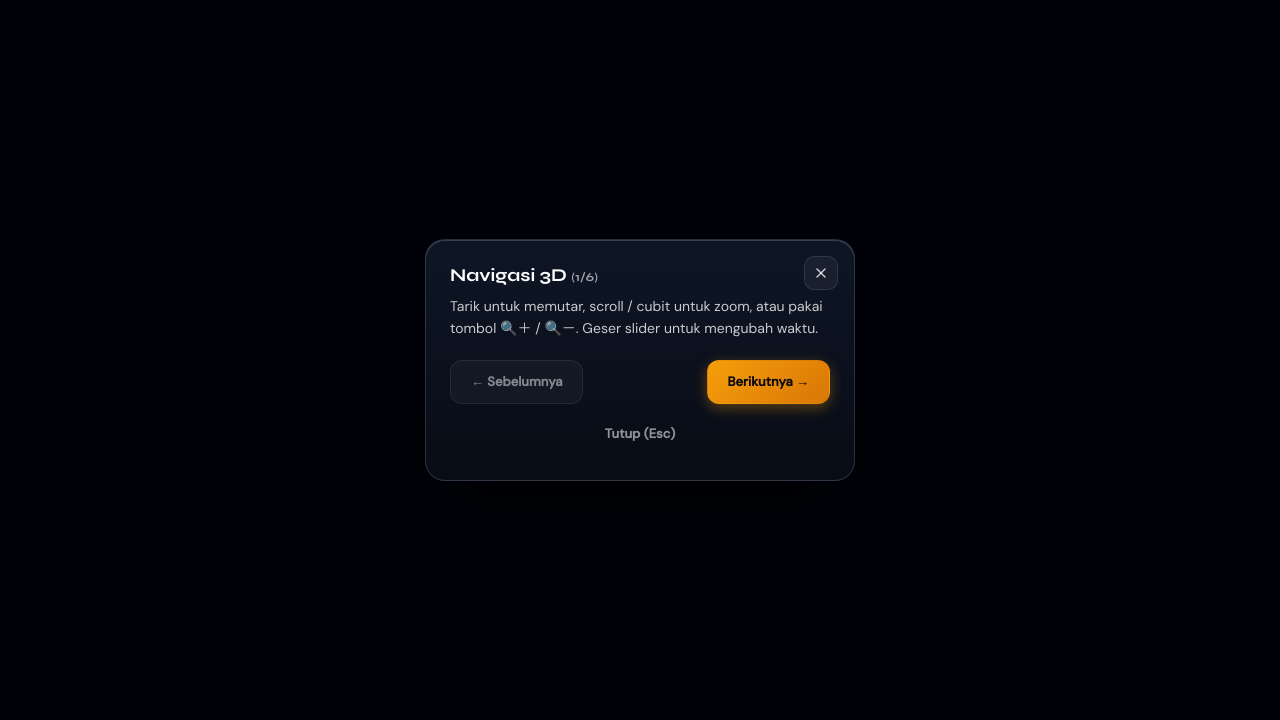
Test: OverlayHelp › navigasi maju sampai langkah terakhir → tombol Selesai
Click the button "Berikutnya →": (768, 382) [706,360,830,404]
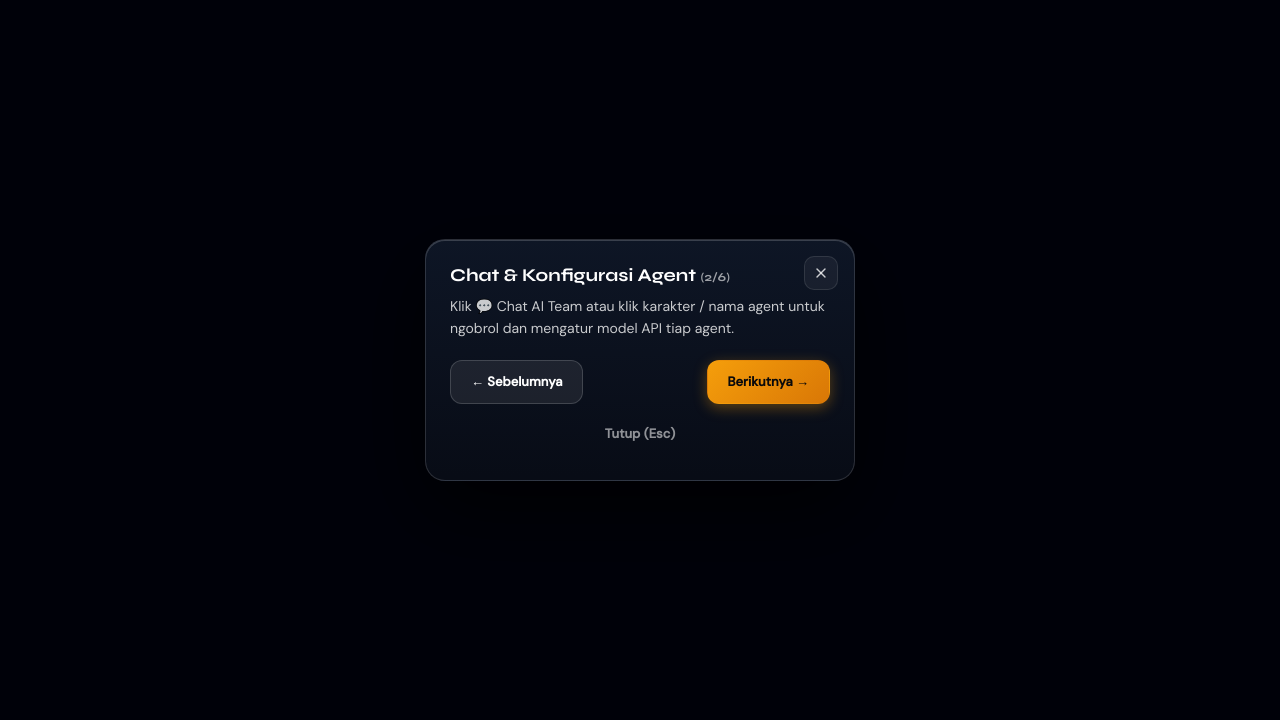
Click the button "Berikutnya →": (768, 382) [706,360,830,404]
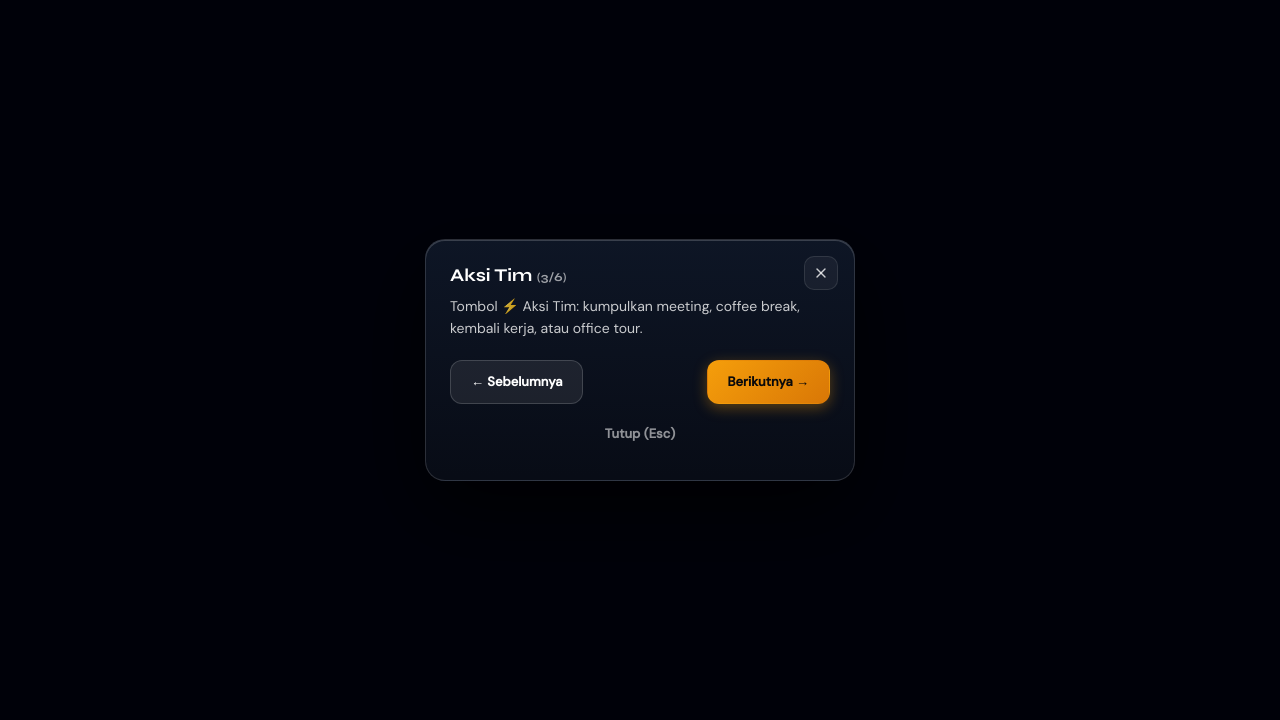
Click the button "Berikutnya →": (768, 382) [706,360,830,404]
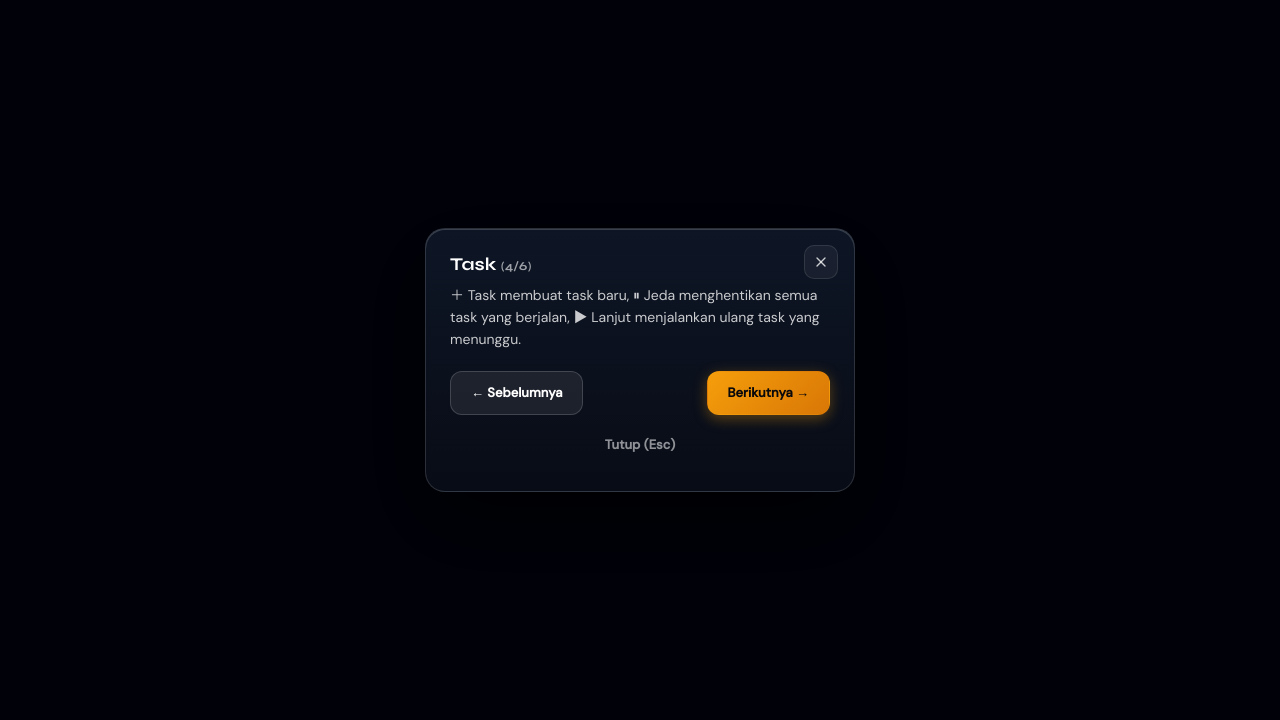
Click the button "Berikutnya →": (768, 392) [706,370,830,414]
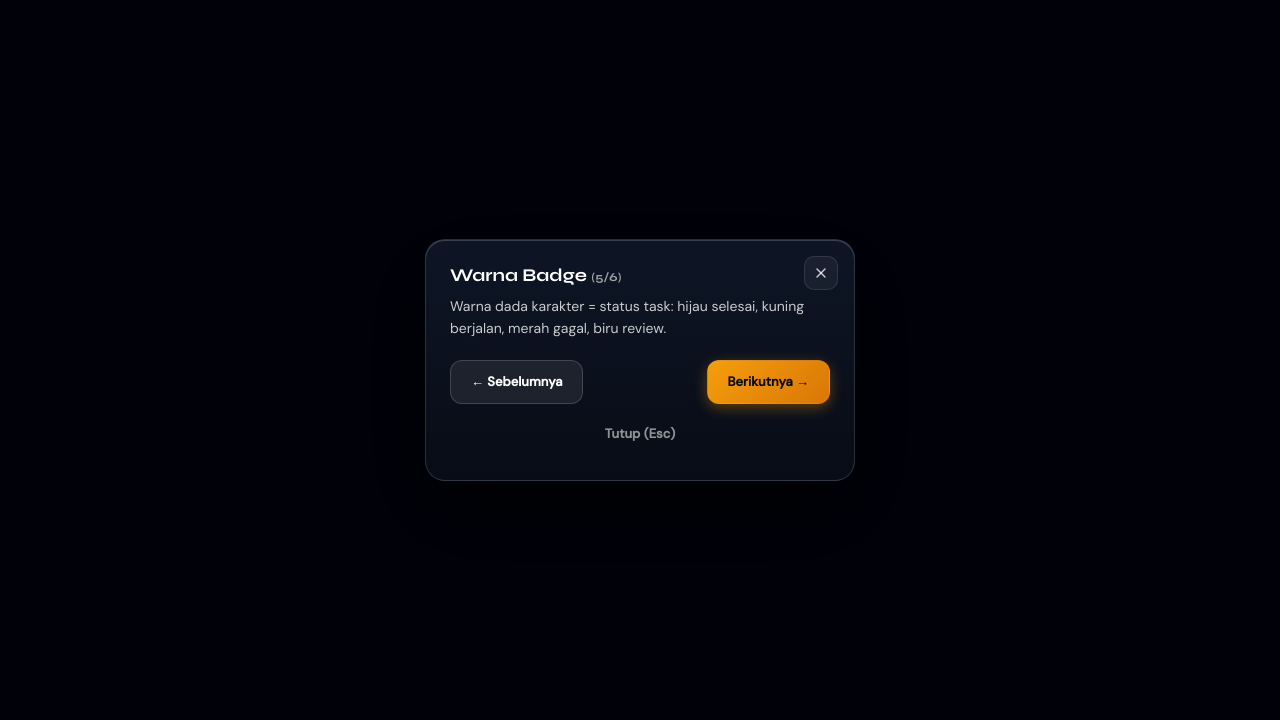
Click the button "Berikutnya →": (768, 382) [706,360,830,404]
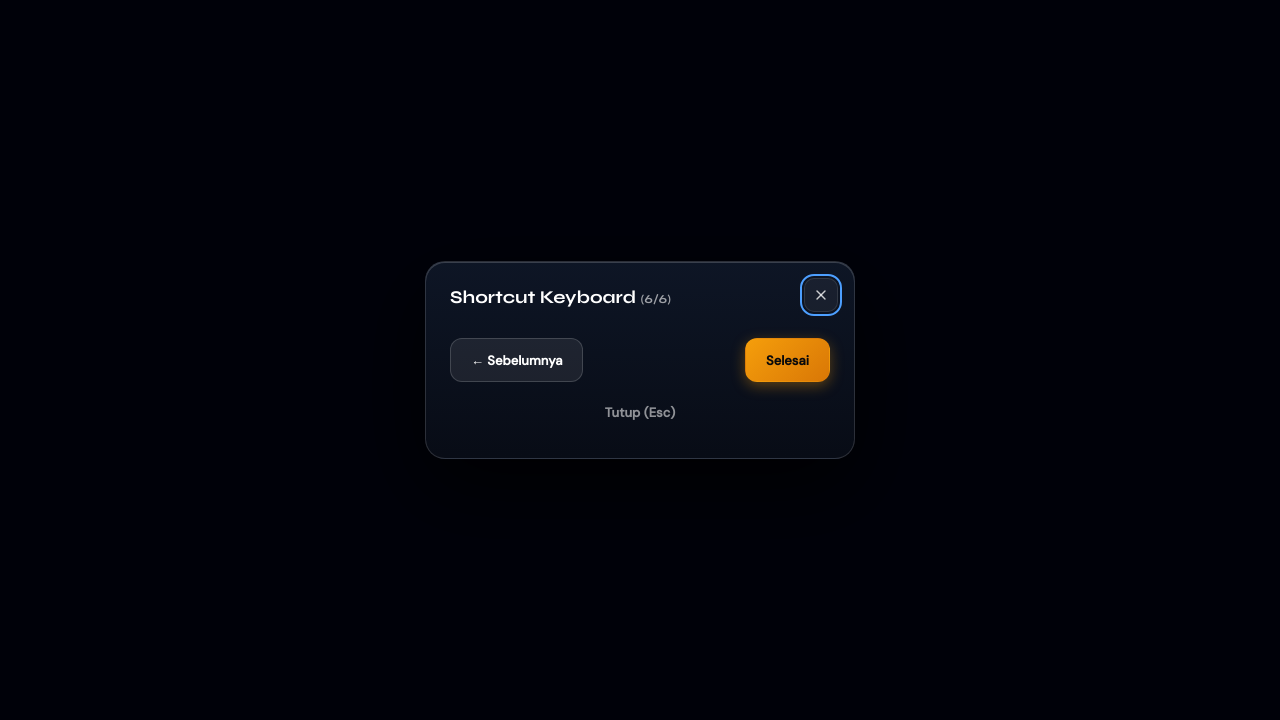
Result: the text "(6/6)" is shown at [640,292,671,306]
Result: the button "Berikutnya →" is gone
Result: the button "Selesai" is shown at [745,338,830,382]
